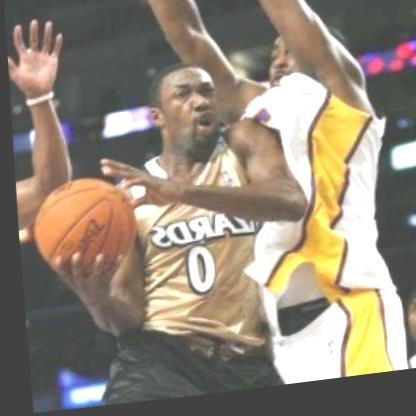basketball: (36, 177, 128, 274)
